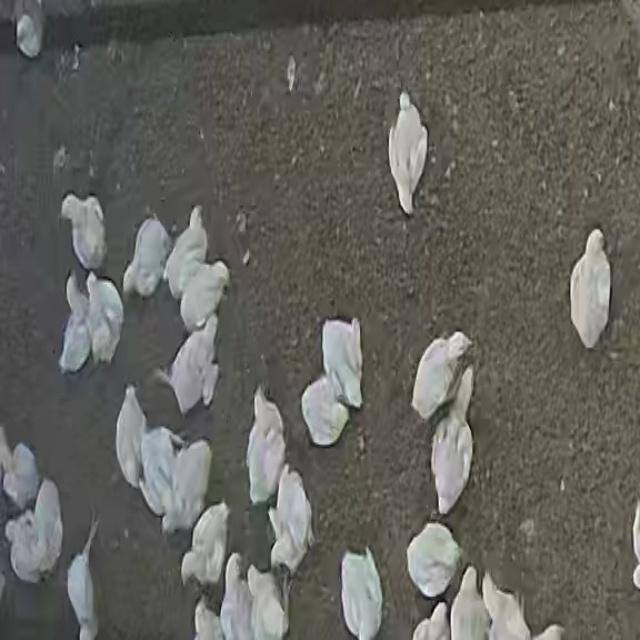chicken: (432, 369, 476, 511), (388, 97, 431, 216), (408, 333, 470, 415), (569, 229, 611, 350), (169, 318, 218, 416), (245, 387, 286, 504), (268, 467, 312, 575), (69, 515, 104, 640), (165, 204, 208, 302), (408, 520, 461, 599), (339, 548, 383, 640), (169, 439, 211, 532), (322, 317, 366, 404), (60, 194, 109, 272), (182, 505, 227, 589), (179, 260, 229, 335), (140, 426, 179, 520), (58, 273, 94, 373), (86, 272, 124, 364), (116, 387, 148, 492), (482, 572, 532, 636), (132, 215, 170, 298), (247, 562, 287, 640), (33, 469, 61, 577), (300, 380, 344, 445), (219, 556, 253, 640), (2, 520, 44, 585), (450, 570, 488, 639), (3, 444, 39, 511), (14, 0, 43, 57), (413, 603, 451, 640), (190, 600, 224, 640)
